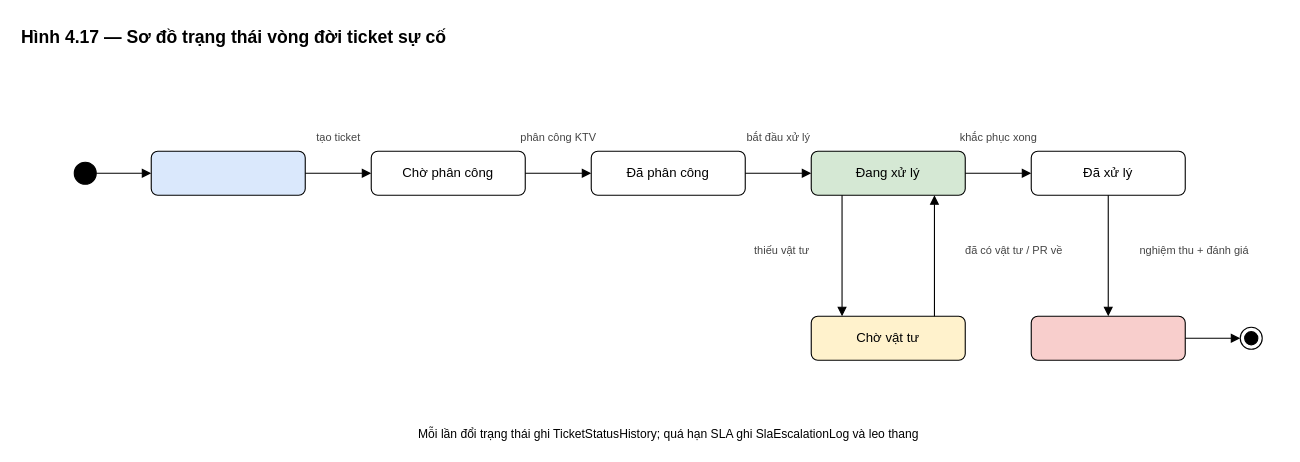
Image size: 1300x462. Some labels were removed from this diagram. The centre of each missing label's shape, as x and y in pixels:
"Mới tiếp nhận" goes at (x=227, y=172).
"Đã đóng" goes at (x=1107, y=337).
